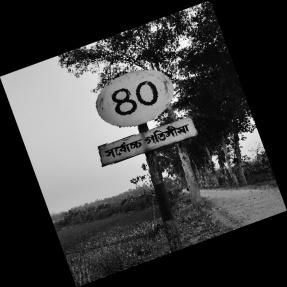Speed-limit: (94, 68, 195, 168)
